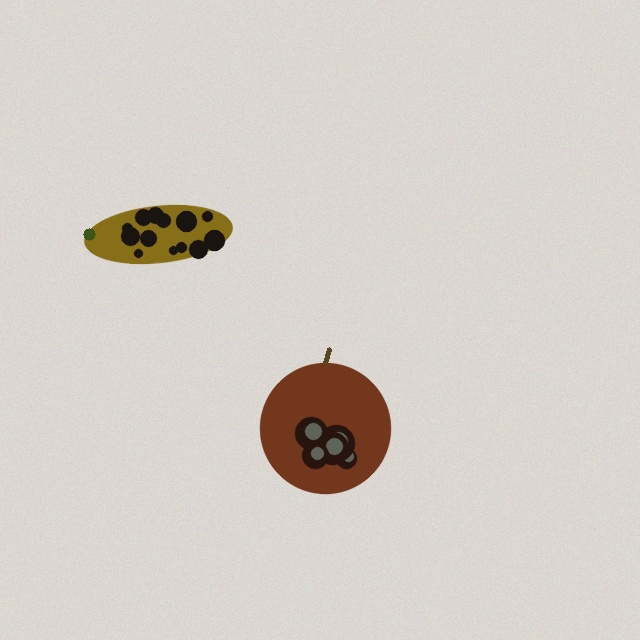Rotten apple: (260, 349, 390, 493)
Rotten banana: (81, 199, 235, 269)
